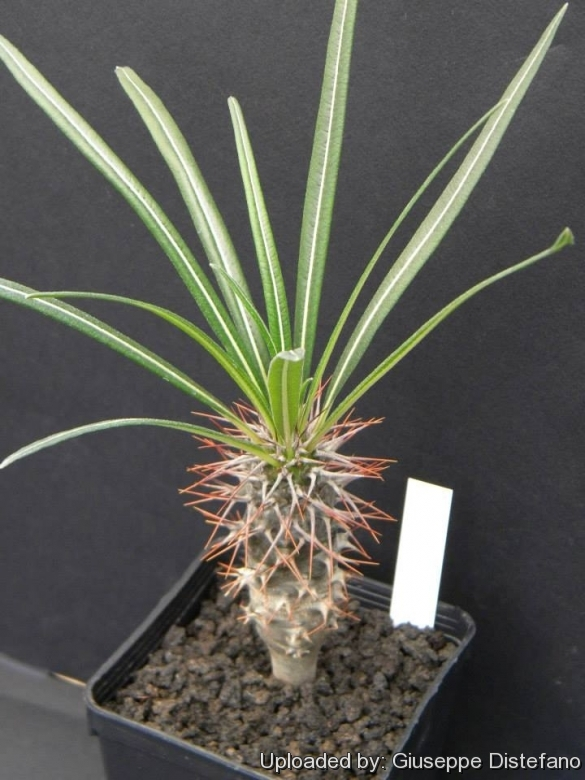Pachypodium geayi: (148, 237, 426, 698)
